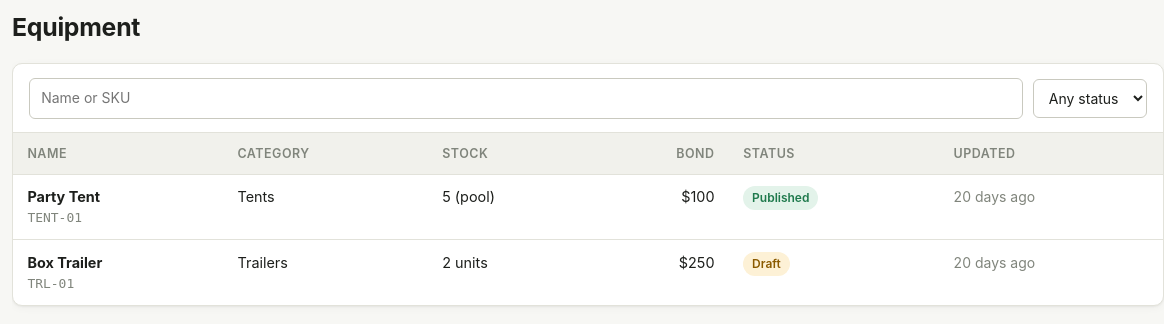
Equipment list filters › searches equipment by name when the search form is submitted
Check: the text "Party Tent" is shown, box [27, 188, 100, 205]
type a search and press Enter
In the search field named "Search equipment": (526,98) [29, 78, 1023, 119], type "tent"
Then press Enter
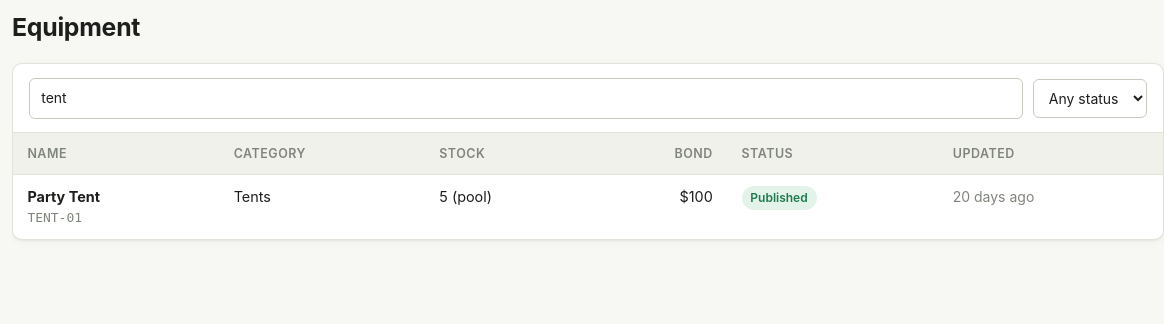
Check: the text "Party Tent" is shown, box [27, 188, 100, 205]
Check: the text "Box Trailer" is gone
